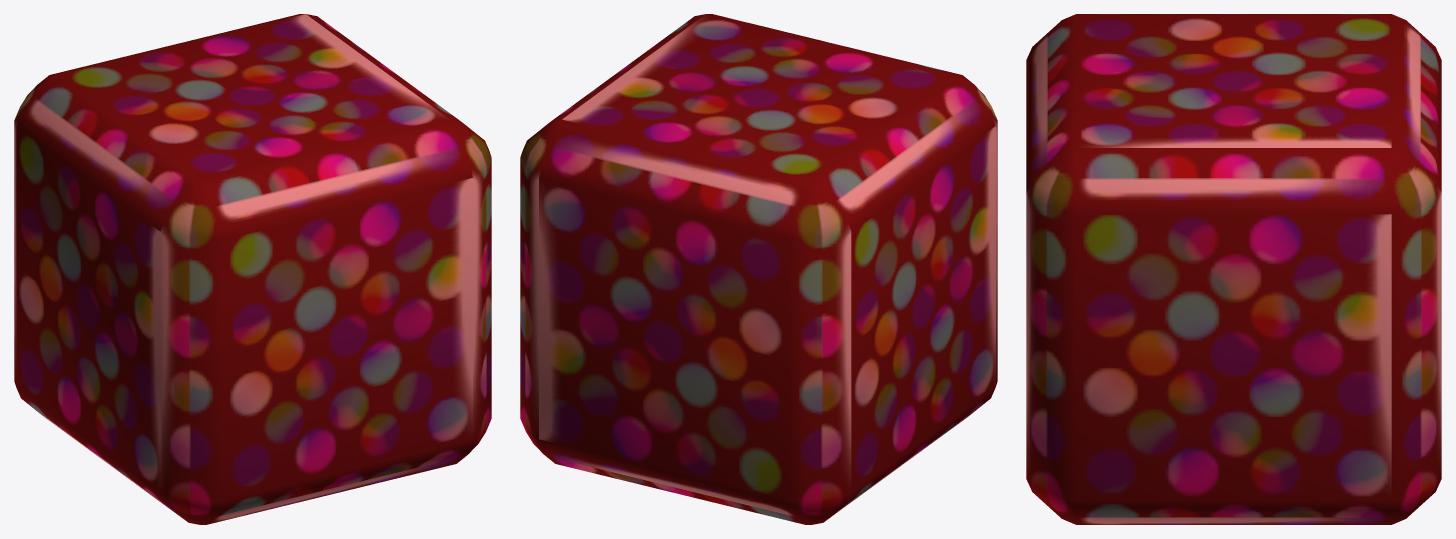
File: ITEM_FAKEBOX_HIGH_SPEC.OBJ
The picture shows the model from 3 angles, left to right: view 1: azimuth 30°, elevation 25°; view 2: azimuth 150°, elevation 25°; view 3: azimuth 270°, elevation 25°; orthographic projection. The views are drawn at different scales.
Parts seen in each view (by area): view 1: FAKE_ITEM_CUBE:Mesh; view 2: FAKE_ITEM_CUBE:Mesh; view 3: FAKE_ITEM_CUBE:Mesh.
Boxes of the visible parts, x1,y1,x2,y2 form: FAKE_ITEM_CUBE:Mesh: (14, 14, 491, 524); FAKE_ITEM_CUBE:Mesh: (520, 14, 997, 524); FAKE_ITEM_CUBE:Mesh: (1026, 14, 1441, 524).
Size of the model in its own units: 1.34 by 1.34 by 1.34.
